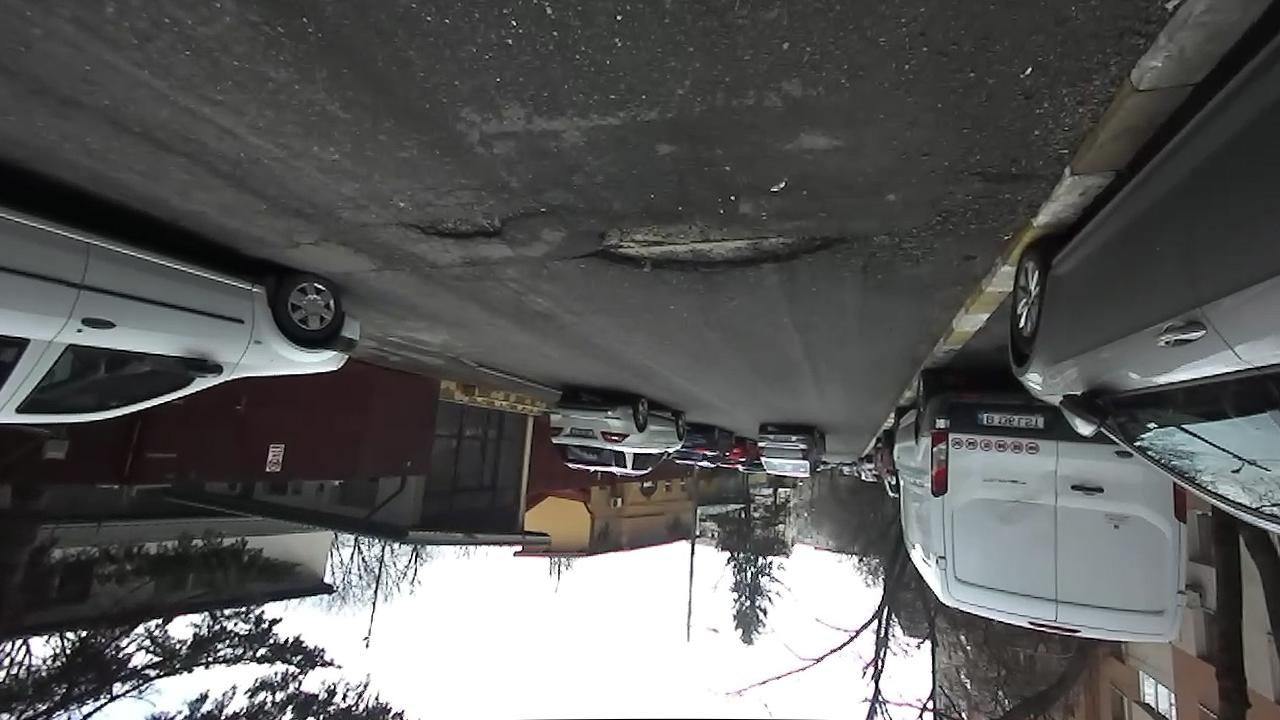pothole: (581, 217, 862, 280), (399, 207, 536, 246)
